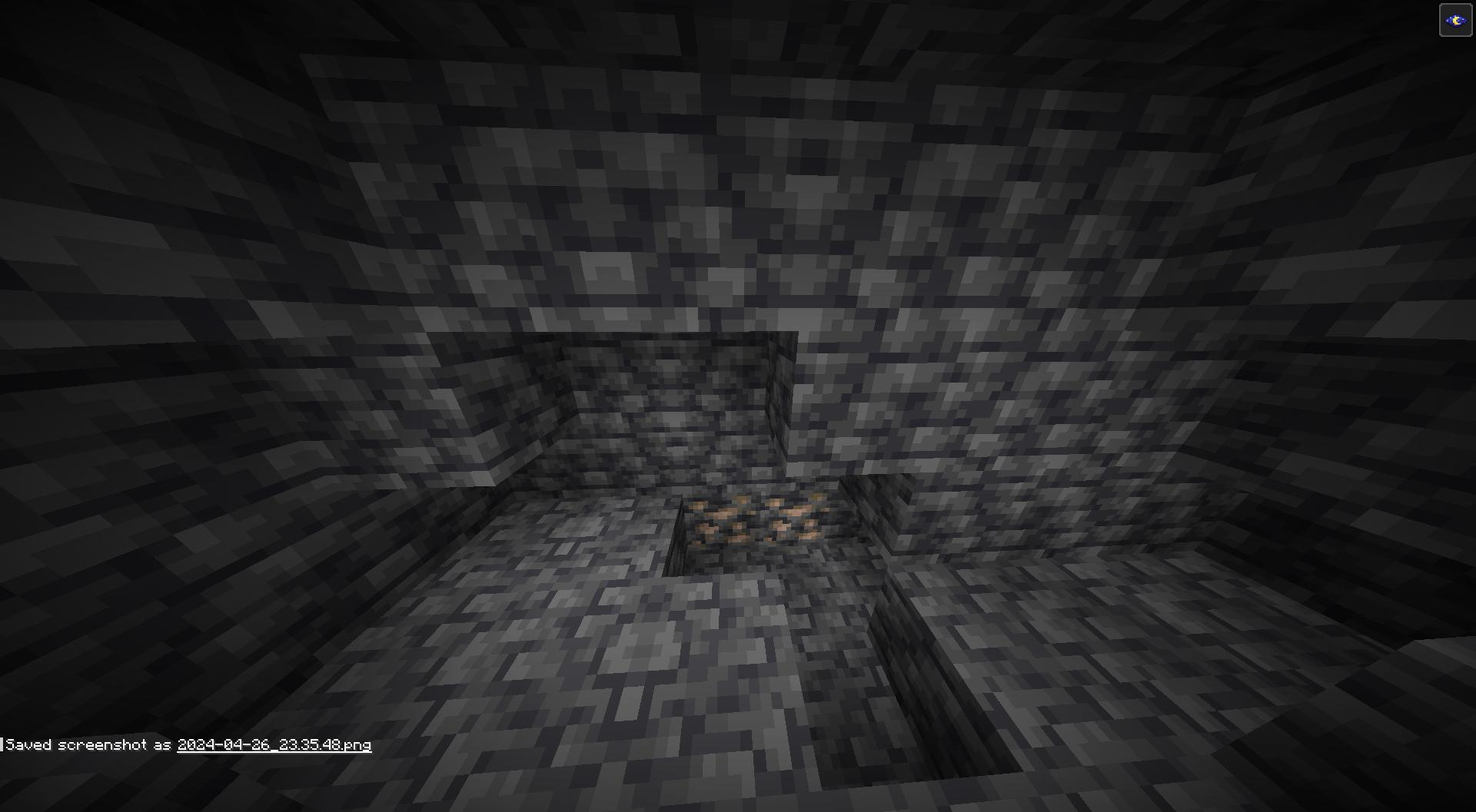iron ore: (679, 492, 760, 545), (759, 491, 827, 545)
